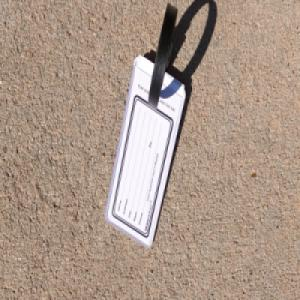LuggageTag: (104, 2, 187, 249)
